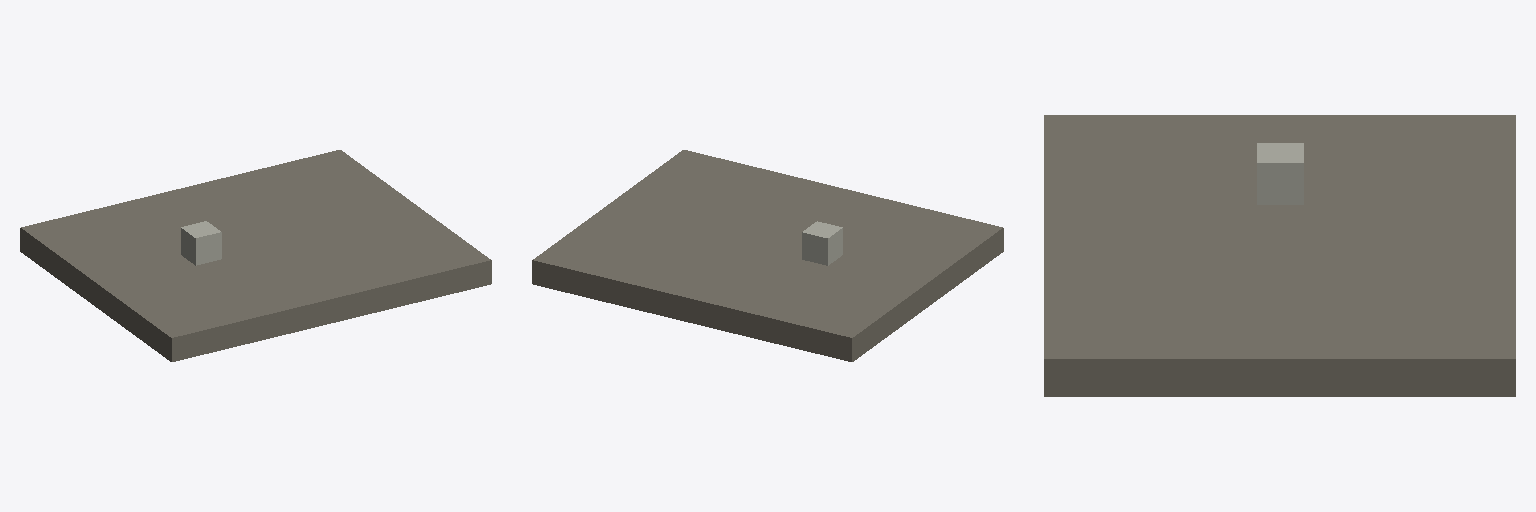
The robot description file, URDF, robot "parttoolgen_hammer_single_cube":
<?xml version="1.0"?>
<robot name="parttoolgen_hammer_single_cube">
  <link name="table_with_target_cube">
    <visual>
      <material name="wood">
        <color rgba="0.52 0.50 0.46 1.0"/>
      </material>
      <origin xyz="0 0 0"/>
      <geometry>
        <box size="0.55 0.45 0.04"/>
      </geometry>
    </visual>
    <collision>
      <origin xyz="0 0 0"/>
      <geometry>
        <box size="0.55 0.45 0.04"/>
      </geometry>
    </collision>

    <visual>
      <material name="target_cube">
        <color rgba="0.72 0.72 0.68 1.0"/>
      </material>
      <origin xyz="-0.09397874219536505 0.0004934322216454817 0.042499999999999996"/>
      <geometry>
        <box size="0.045 0.045 0.045"/>
      </geometry>
    </visual>
    <collision>
      <origin xyz="-0.09397874219536505 0.0004934322216454817 0.042499999999999996"/>
      <geometry>
        <box size="0.045 0.045 0.045"/>
      </geometry>
    </collision>

    <inertial>
      <mass value="500"/>
      <friction value="1.0"/>
      <inertia ixx="1000.0" ixy="0.0" ixz="0.0" iyy="1000.0" iyz="0.0" izz="1000.0"/>
    </inertial>
  </link>
</robot>

--- Facts derived from the render (not from the file) ---
The picture shows the robot from 3 angles, left to right: view 1: azimuth 30°, elevation 25°; view 2: azimuth 150°, elevation 25°; view 3: azimuth 270°, elevation 25°; orthographic projection.
Model parttoolgen_hammer_single_cube with 1 links and 0 joints (none), rooted at table_with_target_cube, posed every joint at zero.
Links seen in each view (by area): view 1: table_with_target_cube; view 2: table_with_target_cube; view 3: table_with_target_cube.
Link boxes in pixels (box(x1,y1,x2,y2)): table_with_target_cube: box(20, 150, 491, 361); table_with_target_cube: box(532, 150, 1003, 361); table_with_target_cube: box(1044, 115, 1515, 396).
Bounding box of the posed robot: 0.55 × 0.45 × 0.085 m (x, y, z).
Geometry: primitives only (box / cylinder / sphere), no mesh files.
